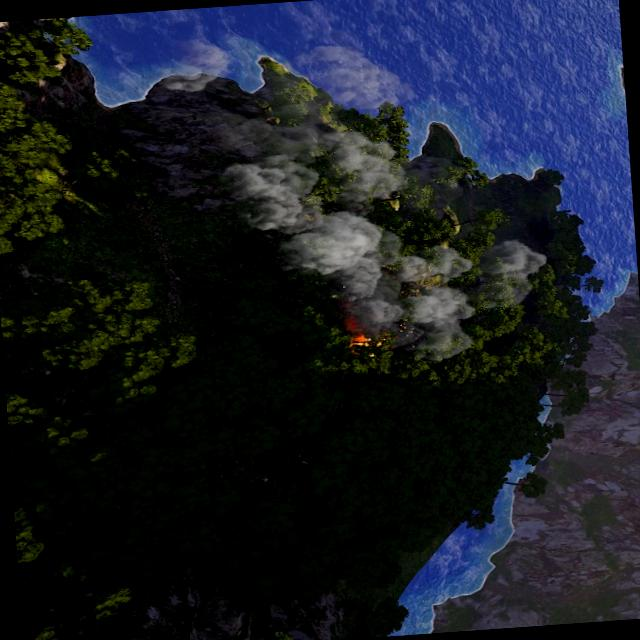fire: (346, 335, 372, 349)
smoke: (206, 36, 474, 372), (476, 237, 548, 310), (153, 34, 235, 91)
